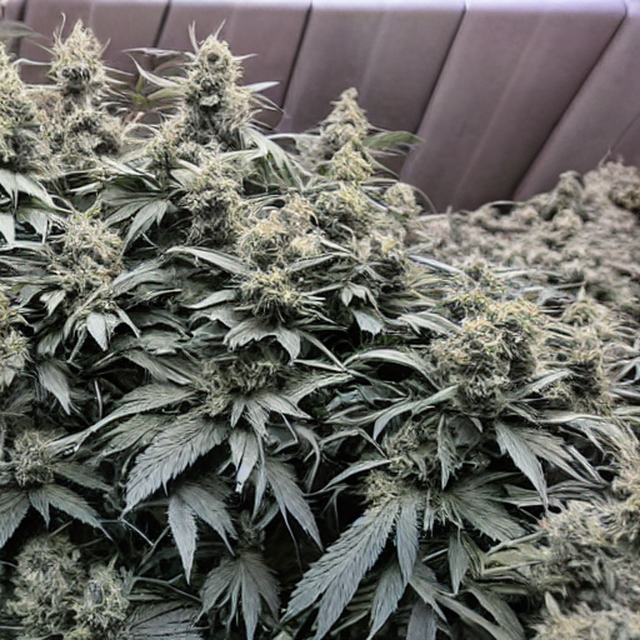Marijuana Plant: (0, 0, 598, 639)
